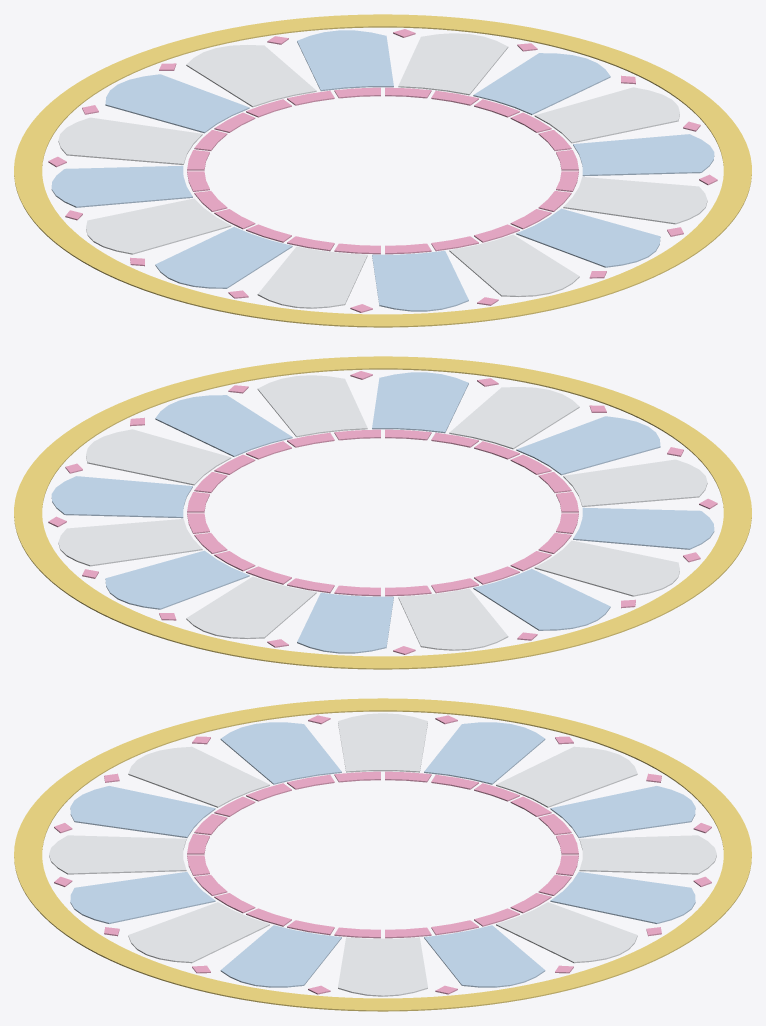
File: LobbyCourt.glb
3 renders of one model, top to bottom at view 1: azimuth 30°, elevation 25°; view 2: azimuth 150°, elevation 25°; view 3: azimuth 270°, elevation 25°, orthographic.
Visible parts, largest first — view 1: RayA, RayB, Ring, Accent; view 2: RayA, RayB, Ring, Accent; view 3: RayB, RayA, Ring, Accent.
Part boxes in pixels (left/top/right/bottom): RayA: left=58, top=33, right=707, bottom=308; RayB: left=51, top=30, right=714, bottom=311; Ring: left=14, top=14, right=751, bottom=327; Accent: left=48, top=29, right=717, bottom=312; RayA: left=58, top=375, right=707, bottom=650; RayB: left=51, top=372, right=714, bottom=653; Ring: left=14, top=356, right=751, bottom=669; Accent: left=48, top=371, right=717, bottom=654; RayB: left=70, top=722, right=695, bottom=987; RayA: left=49, top=713, right=716, bottom=996; Ring: left=14, top=698, right=751, bottom=1011; Accent: left=54, top=715, right=711, bottom=994.
Bounding box in the file's own units: 55 × 0.1 × 55.
